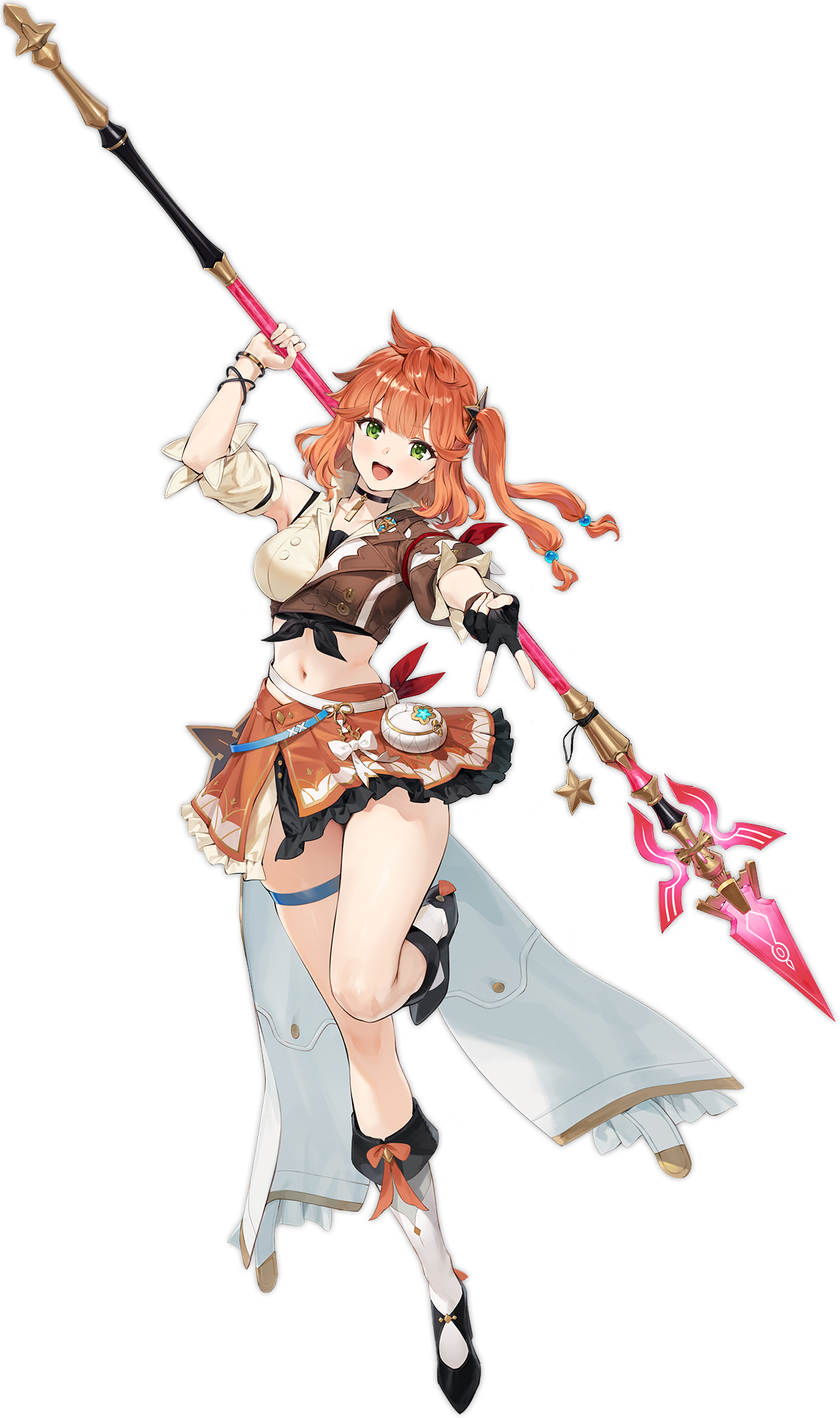person: (39, 261, 806, 1417)
